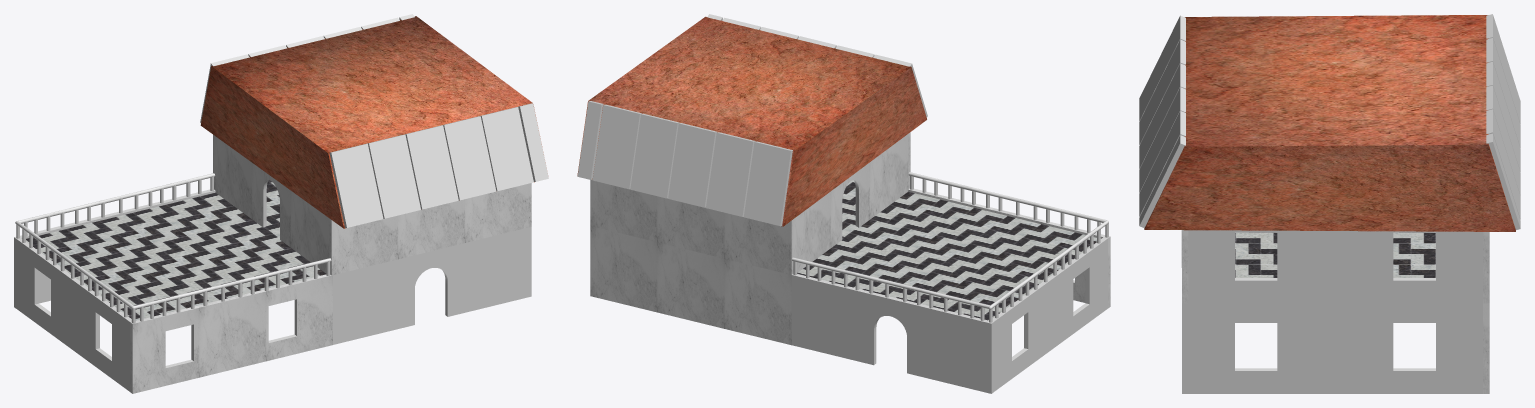
Rendered from Building 3.fbx.
3 renders of one model, left to right at view 1: azimuth 30°, elevation 25°; view 2: azimuth 150°, elevation 25°; view 3: azimuth 270°, elevation 25°, orthographic. The views are drawn at different scales.
Visible parts, largest first — view 1: Roof, Cube, Back_Wall, Cube_3_9, Cube_3_13, Cube_2_3, Cube_3, RoofPanel_2_3, RoofPanel_1_2, RoofPanel_2_2, RoofPanel_3_2, RoofPanel_4_2 (+5 smaller); view 2: Roof, Cube, Back_Wall_3, Cube_3_5, Back_Wall_1, Cube_2_3, Cube_3, RoofPanel, RoofPanel_1, RoofPanel_2, RoofPanel_3, RoofPanel_4 (+5 smaller); view 3: Roof, Cube_2_5, Cube_2_7, Cube, RoofPanel_4_2, RoofPanel_2_3, RoofPanel_2_2, RoofPanel_1_2, RoofPanel_3_2, RoofPanel_5_2, RoofPanel_4, RoofPanel_2 (+8 smaller).
Boxes of the visible parts, x1,y1,x2,y2 form: Roof: (200, 16, 545, 228); Cube: (26, 180, 325, 320); Back_Wall: (130, 274, 332, 393); Cube_3_9: (333, 227, 531, 344); Cube_3_13: (329, 183, 531, 275); Cube_2_3: (16, 237, 131, 391); Cube_3: (213, 135, 329, 273); RoofPanel_2_3: (329, 143, 383, 227); RoofPanel_1_2: (405, 125, 458, 209); RoofPanel_2_2: (367, 134, 420, 218); RoofPanel_3_2: (442, 116, 496, 200); RoofPanel_4_2: (480, 107, 533, 191); Roof: (577, 16, 926, 226); Cube: (797, 180, 1096, 320); Back_Wall_3: (590, 226, 791, 345); Cube_3_5: (791, 274, 993, 393); Back_Wall_1: (590, 180, 792, 274); Cube_2_3: (992, 237, 1107, 391); Cube_3: (792, 134, 908, 273); RoofPanel: (744, 141, 792, 226); RoofPanel_1: (668, 123, 717, 207); RoofPanel_2: (706, 132, 755, 216); RoofPanel_3: (630, 113, 679, 198); RoofPanel_4: (592, 104, 641, 189); Roof: (1144, 15, 1515, 231); Cube_2_5: (1188, 303, 1482, 393); Cube_2_7: (1188, 230, 1482, 302); Cube: (1235, 232, 1435, 277); RoofPanel_4_2: (1139, 111, 1185, 216); RoofPanel_2_3: (1139, 15, 1185, 121); RoofPanel_2_2: (1139, 39, 1185, 145); RoofPanel_1_2: (1139, 63, 1185, 168); RoofPanel_3_2: (1139, 87, 1185, 192); RoofPanel_5_2: (1139, 135, 1185, 228); RoofPanel_4: (1486, 109, 1520, 219); RoofPanel_2: (1486, 38, 1520, 147).
Bounding box in the file's own units: 1202 × 556 × 761.
Materials: 3 (3 with a texture image).
